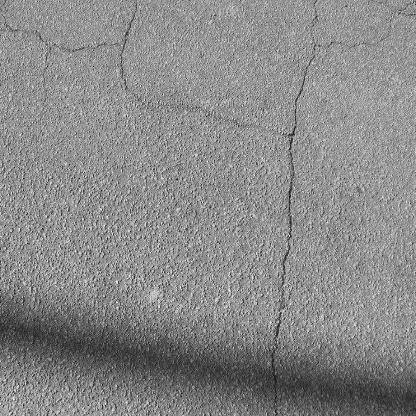pothole: (0, 22, 299, 140), (256, 0, 326, 416), (314, 0, 416, 52), (304, 0, 327, 53)
